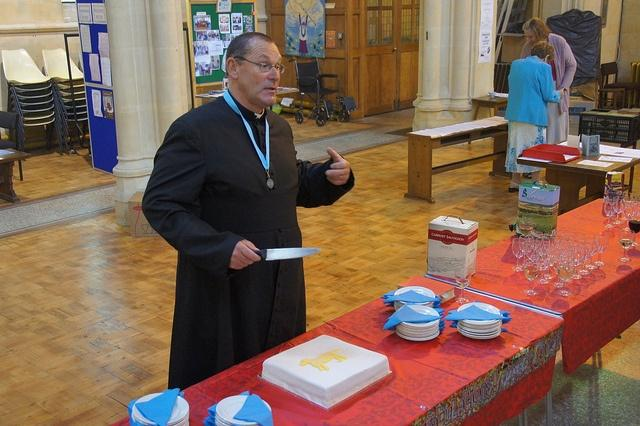Meja: (106, 282, 566, 425), (517, 136, 639, 178)
